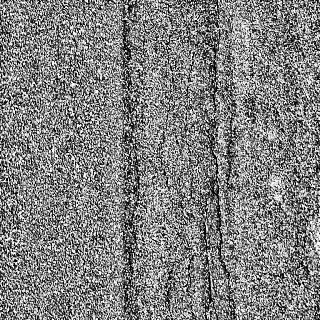crack: (211, 0, 232, 320), (159, 1, 177, 320), (182, 2, 195, 320), (199, 205, 219, 320)
